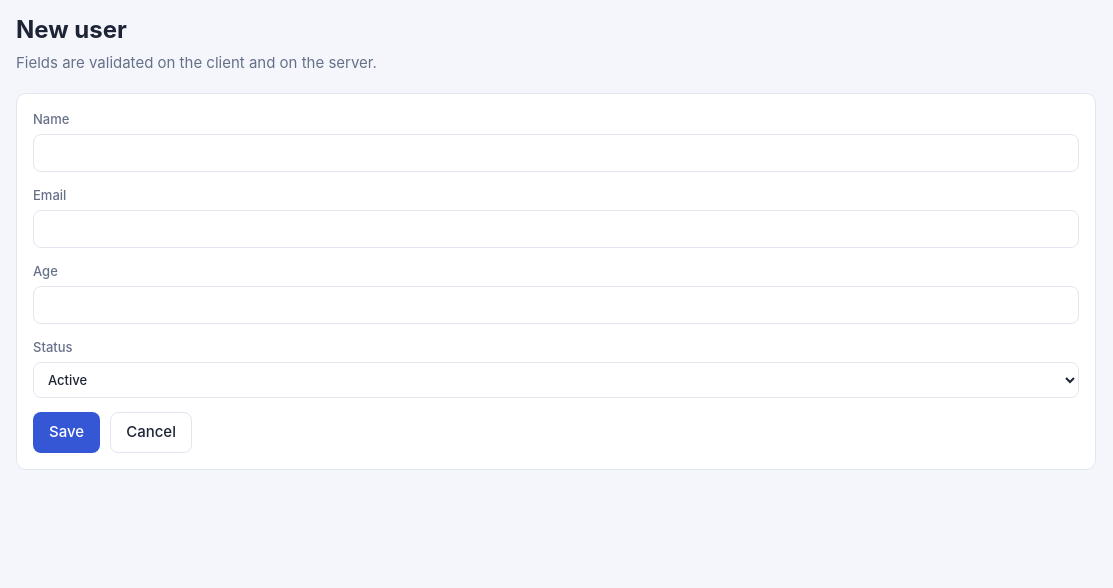
Test case: UserFormPage › renders the field errors returned by the backend
The image size is (1113, 588).
Type "Nina Novak" into the field labelled "Name".
click(556, 153); type("Nina Novak")  # box [33, 134, 1079, 172]
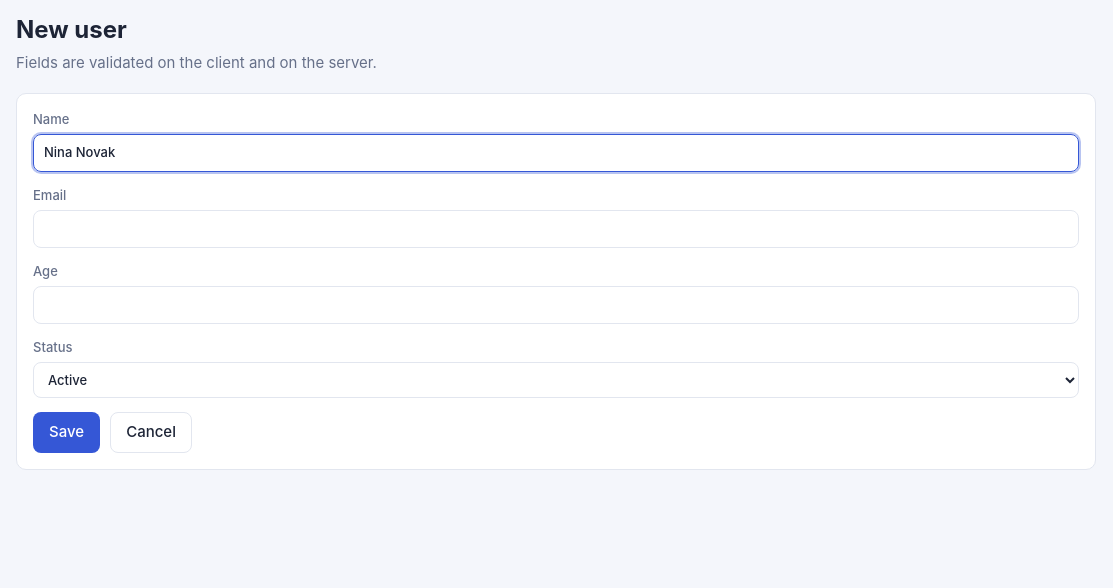
Type "nina@example.com" into the field labelled "Email".
click(556, 229); type("nina@example.com")  # box [33, 210, 1079, 248]
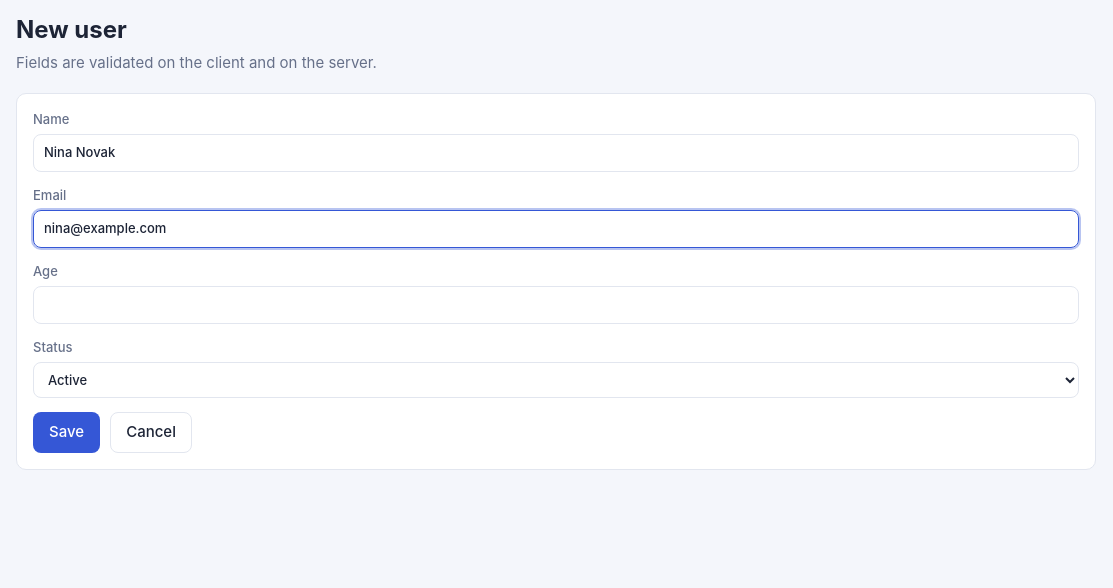
Type "33" into the number field labelled "Age".
click(556, 305); type("33")  # box [33, 286, 1079, 324]
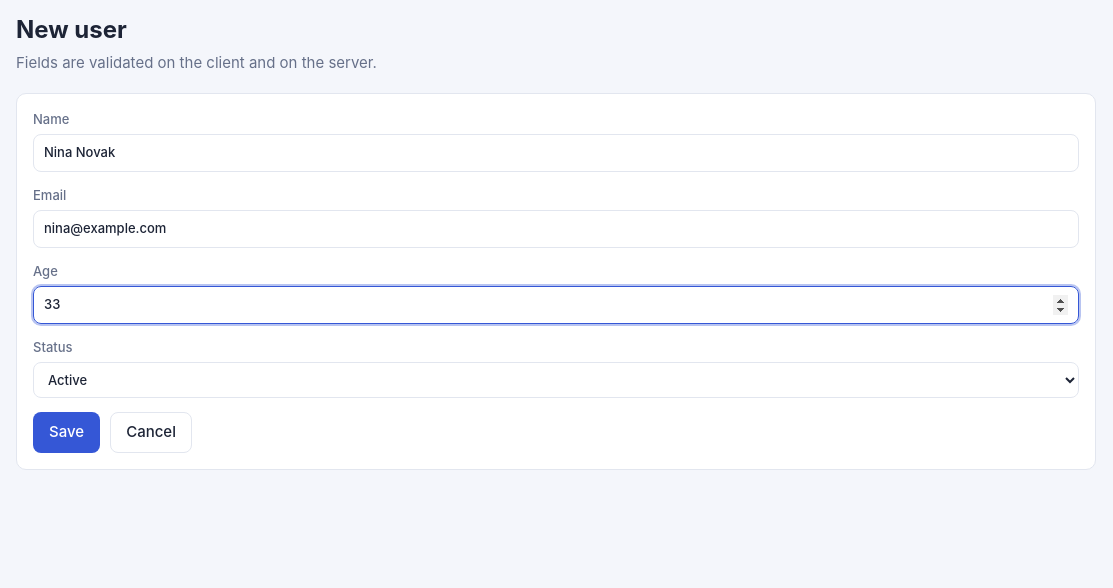
Click the button "Save".
click(67, 432)  # box [33, 412, 100, 452]
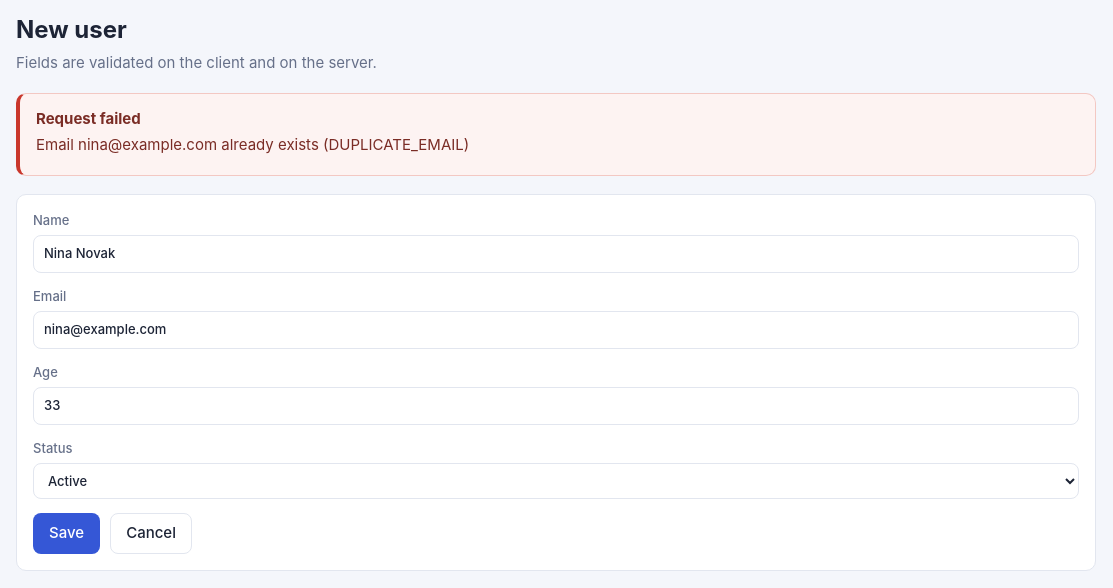
expect the message shows "already exists": met, box [36, 135, 469, 154]
